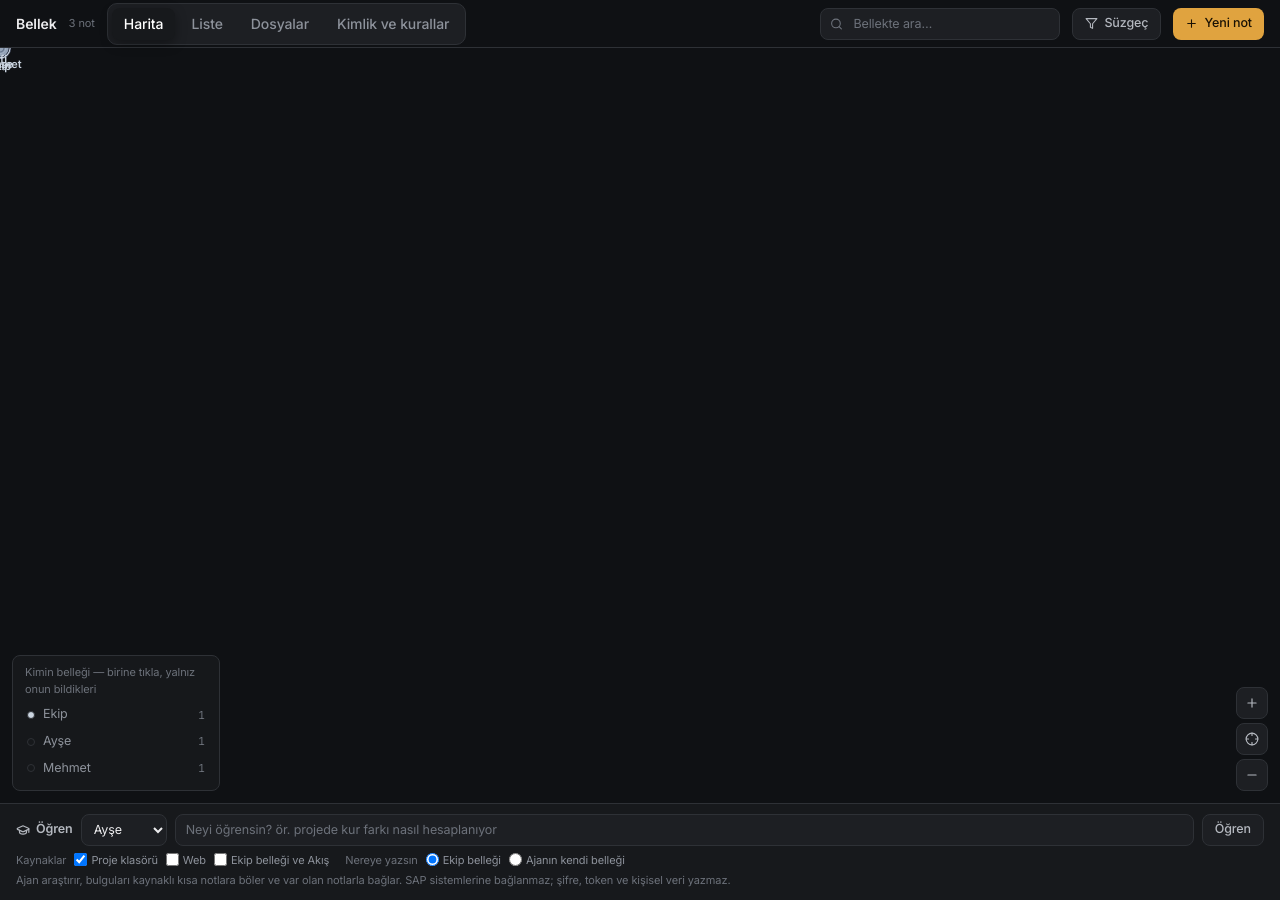
it: MemoryBrain — liste ve dosyalar › liste: son güncellenen önce; ↓ odağı taşır, Enter açar
Click the tab "Liste".
click(207, 24)  # box [180,8,235,40]
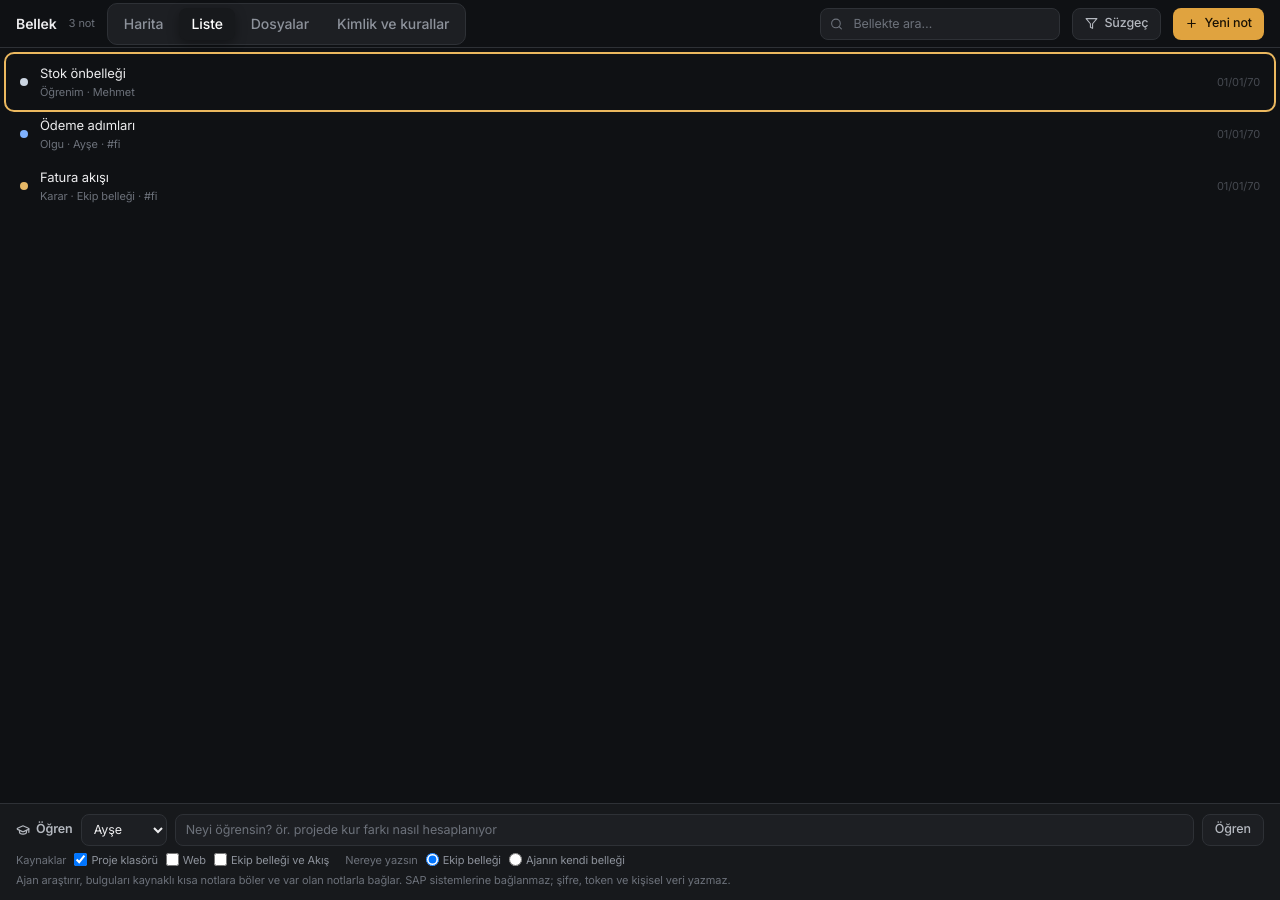
Press ArrowDown in the list named "Notlar", box [8,56,1272,212]
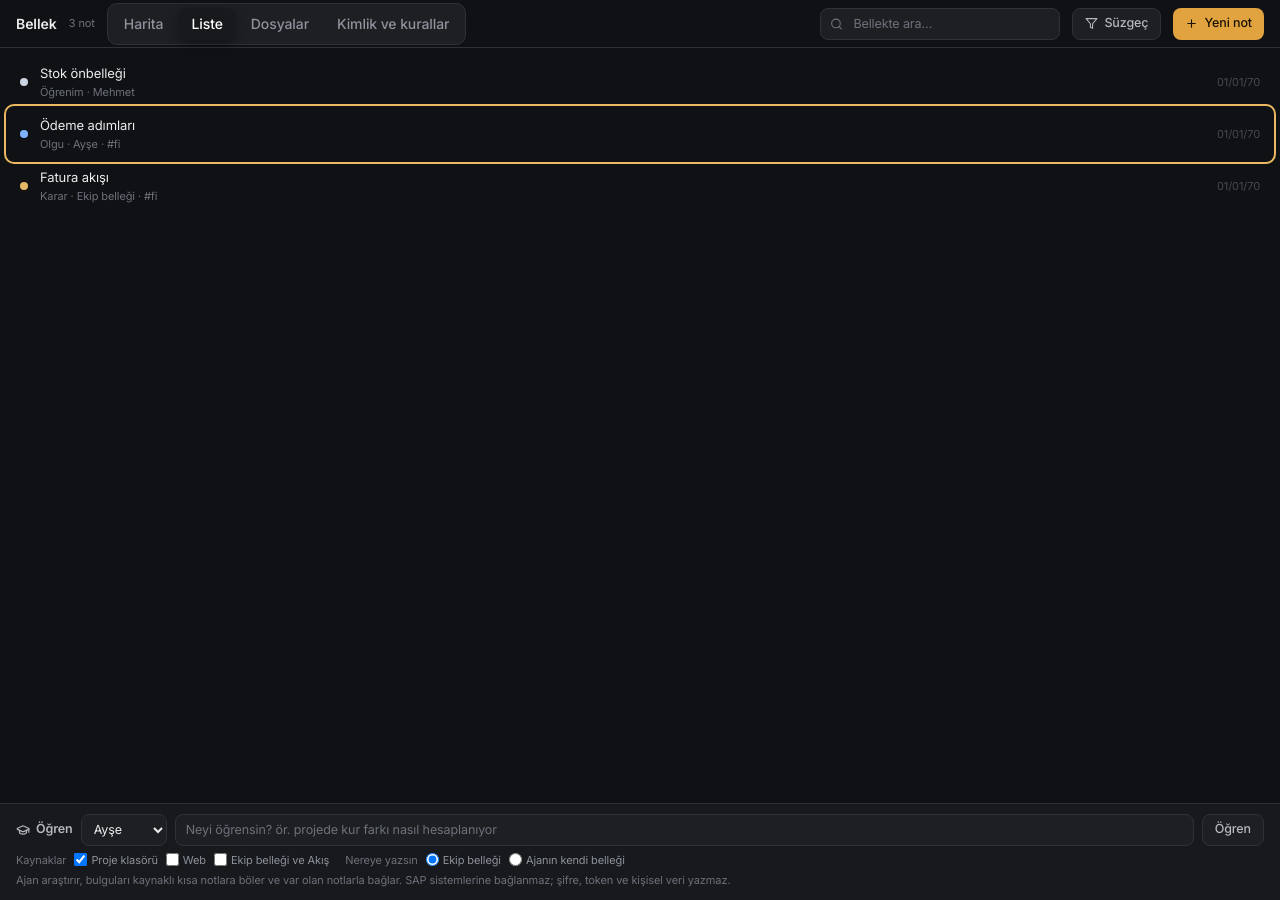
Click the button "Ödeme adımları Olgu · Ayşe · #fi 01/01/70".
click(88, 125)  # box [8,108,1272,160]
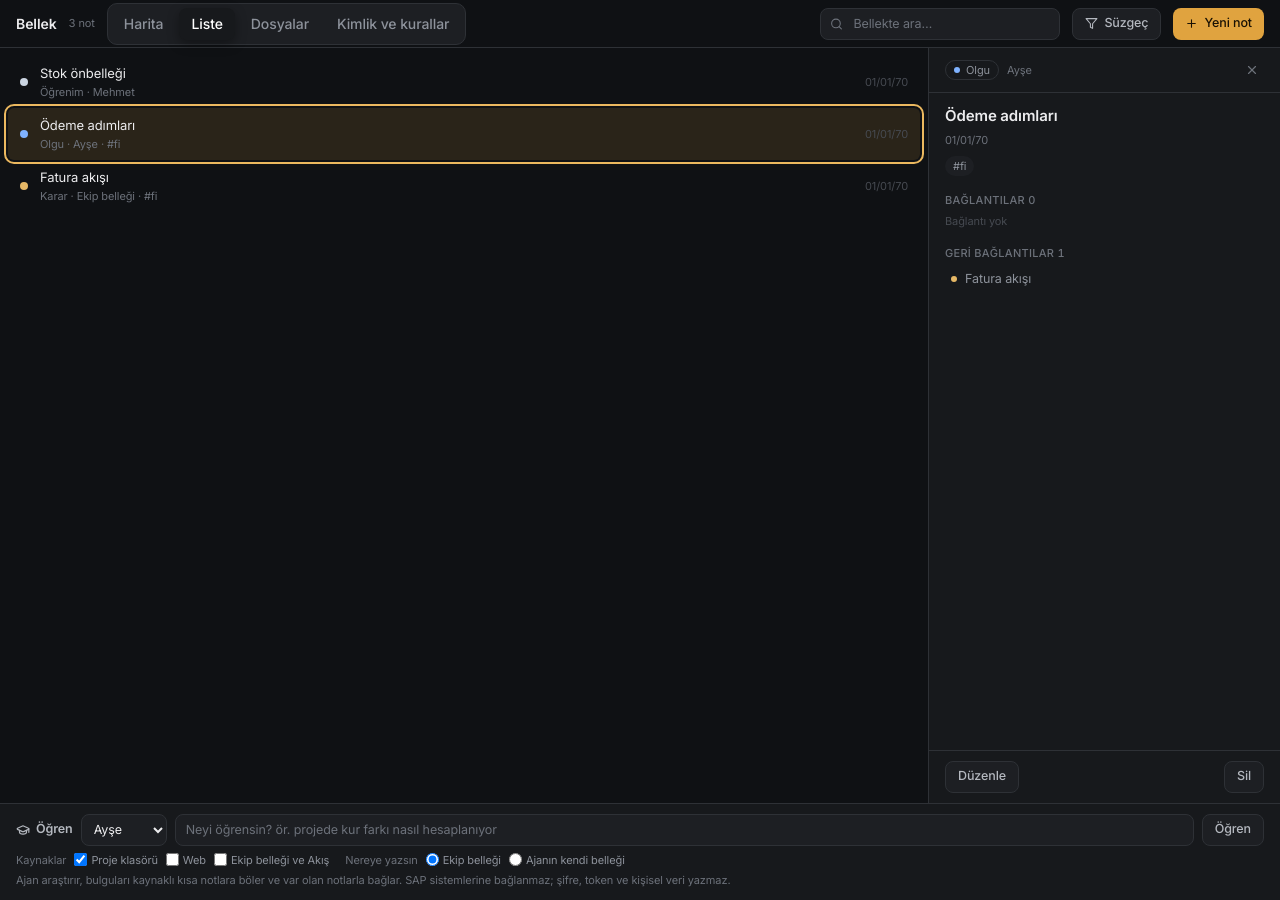
Expected: the element that starts with "Olgu" shows "Ödeme adımları", [945,106,1058,125]
